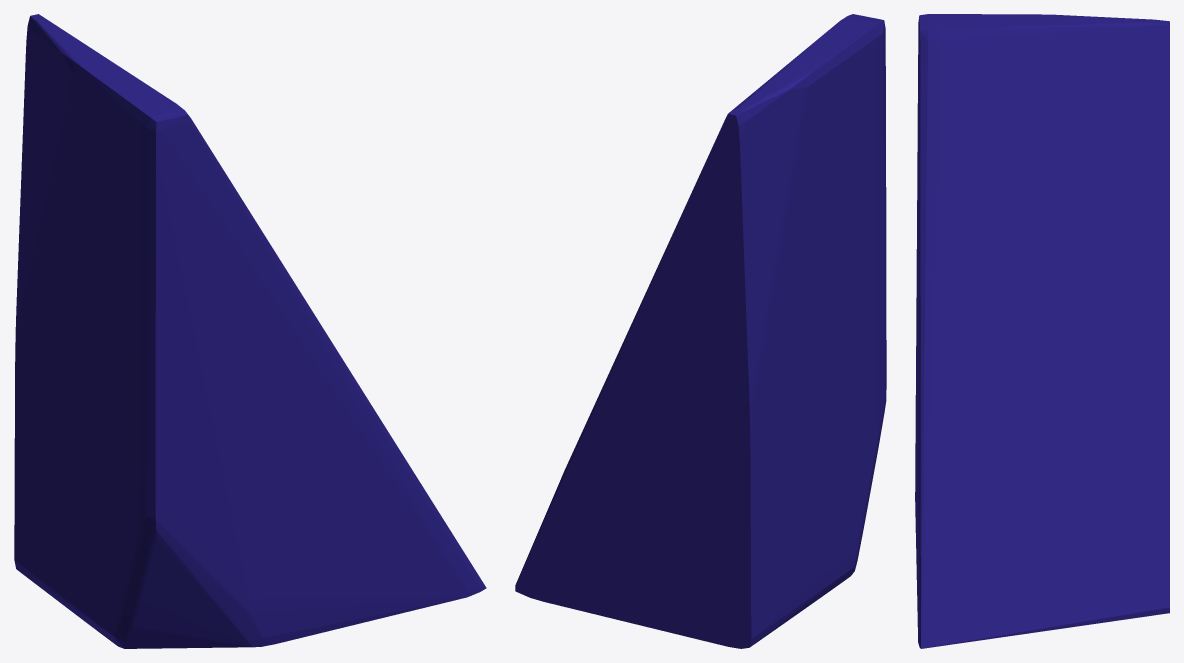
The model's file is right-shoulder-pitch-0_part_18.obj.
The picture shows the model from 3 angles, left to right: view 1: azimuth 30°, elevation 25°; view 2: azimuth 150°, elevation 25°; view 3: azimuth 270°, elevation 25°; orthographic projection. The views are drawn at different scales.
Size of the model in its own units: 0.033 by 0.0521 by 0.0242.
